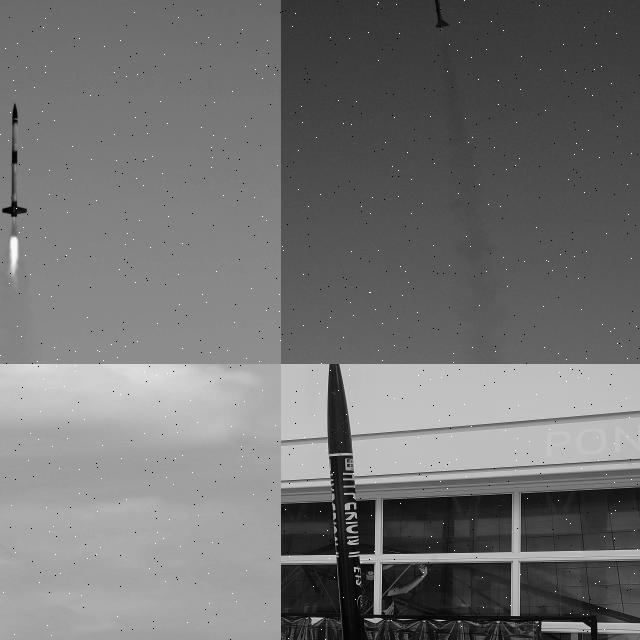Rocket: (327, 364, 366, 640), (2, 102, 28, 218), (433, 0, 450, 28)
